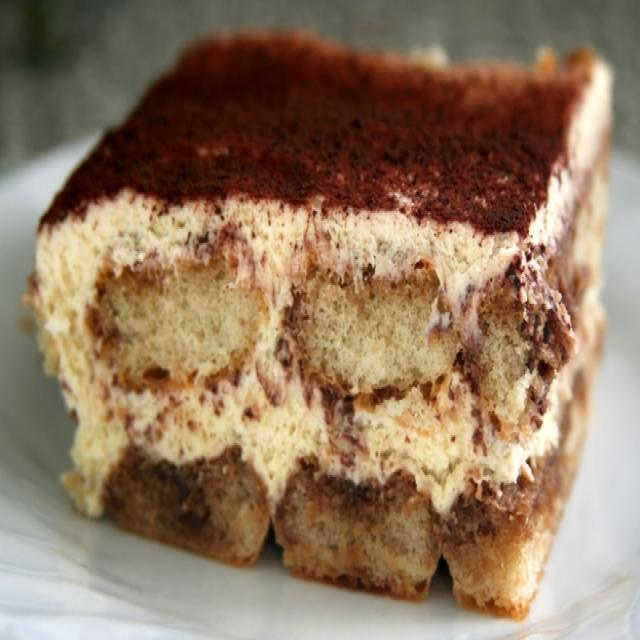蛋糕甜品: (1, 17, 636, 628)
